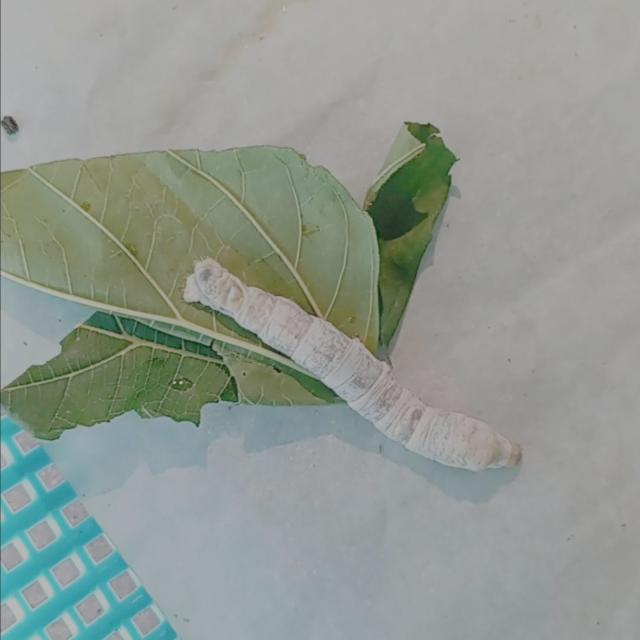Grasserie: (163, 228, 541, 495)
